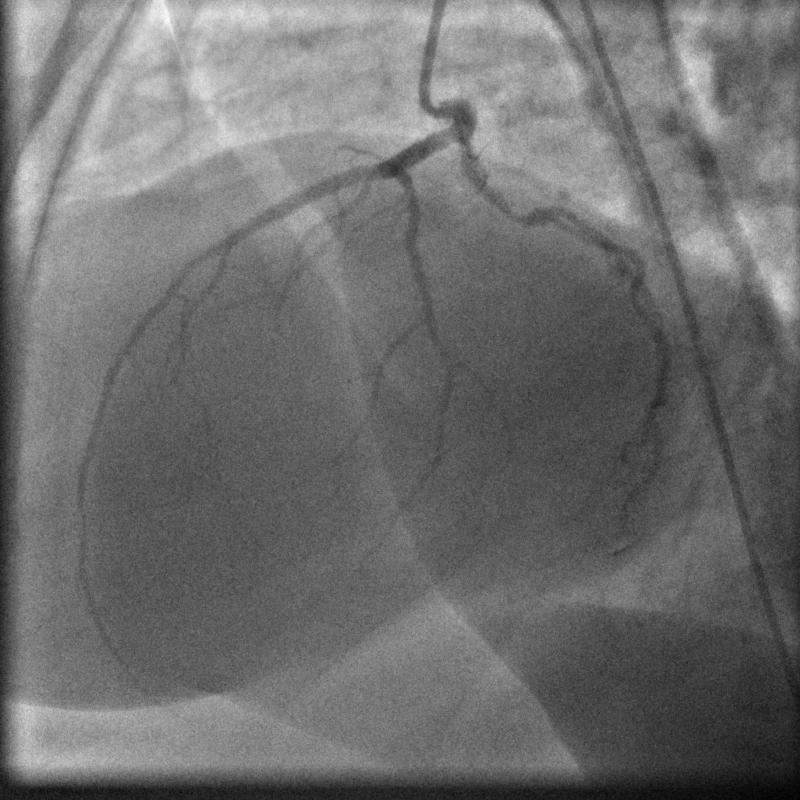Stenosis: (499, 188, 535, 239)
